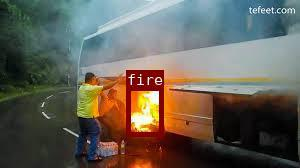fire: (125, 86, 162, 135)
